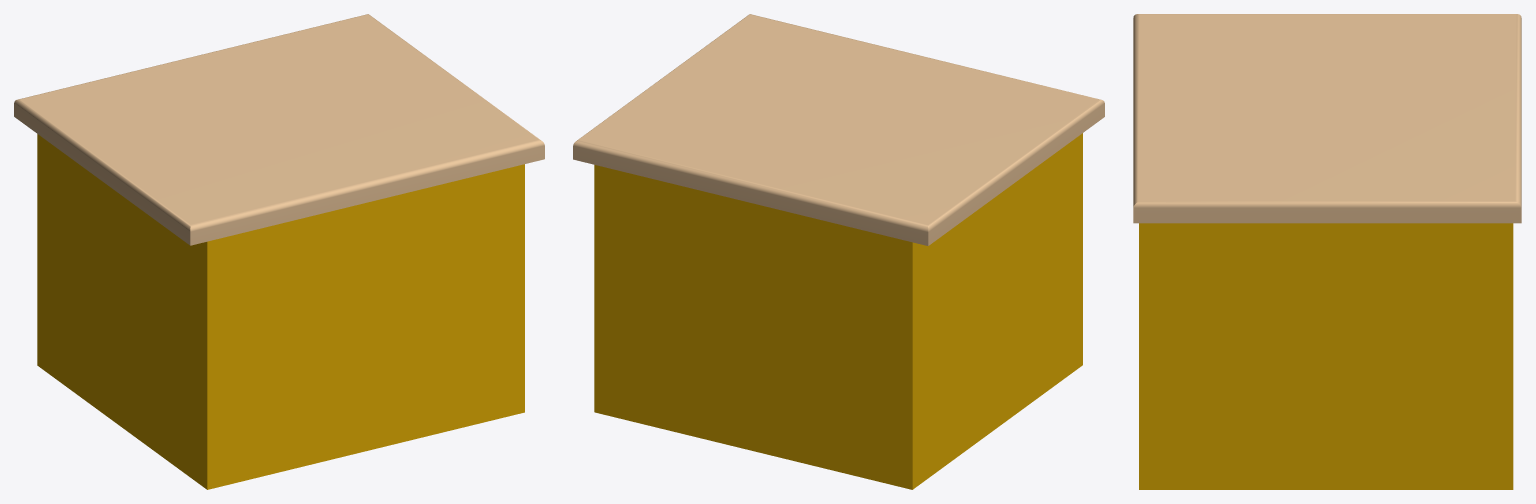
Rendered from counter.fbx.
3 renders of one model, left to right at view 1: azimuth 30°, elevation 25°; view 2: azimuth 150°, elevation 25°; view 3: azimuth 270°, elevation 25°, orthographic. The views are drawn at different scales.
Visible parts, largest first — view 1: counterBase, counterTop; view 2: counterBase, counterTop; view 3: counterBase, counterTop.
Boxes of the visible parts, box(x1,y1,x2,y2) form: counterBase: box(37, 134, 524, 489); counterTop: box(14, 14, 544, 245); counterBase: box(594, 133, 1082, 489); counterTop: box(573, 14, 1104, 245); counterBase: box(1139, 223, 1513, 489); counterTop: box(1133, 14, 1521, 223).
Bounding box in the file's own units: 8.21 × 5.96 × 7.07.
